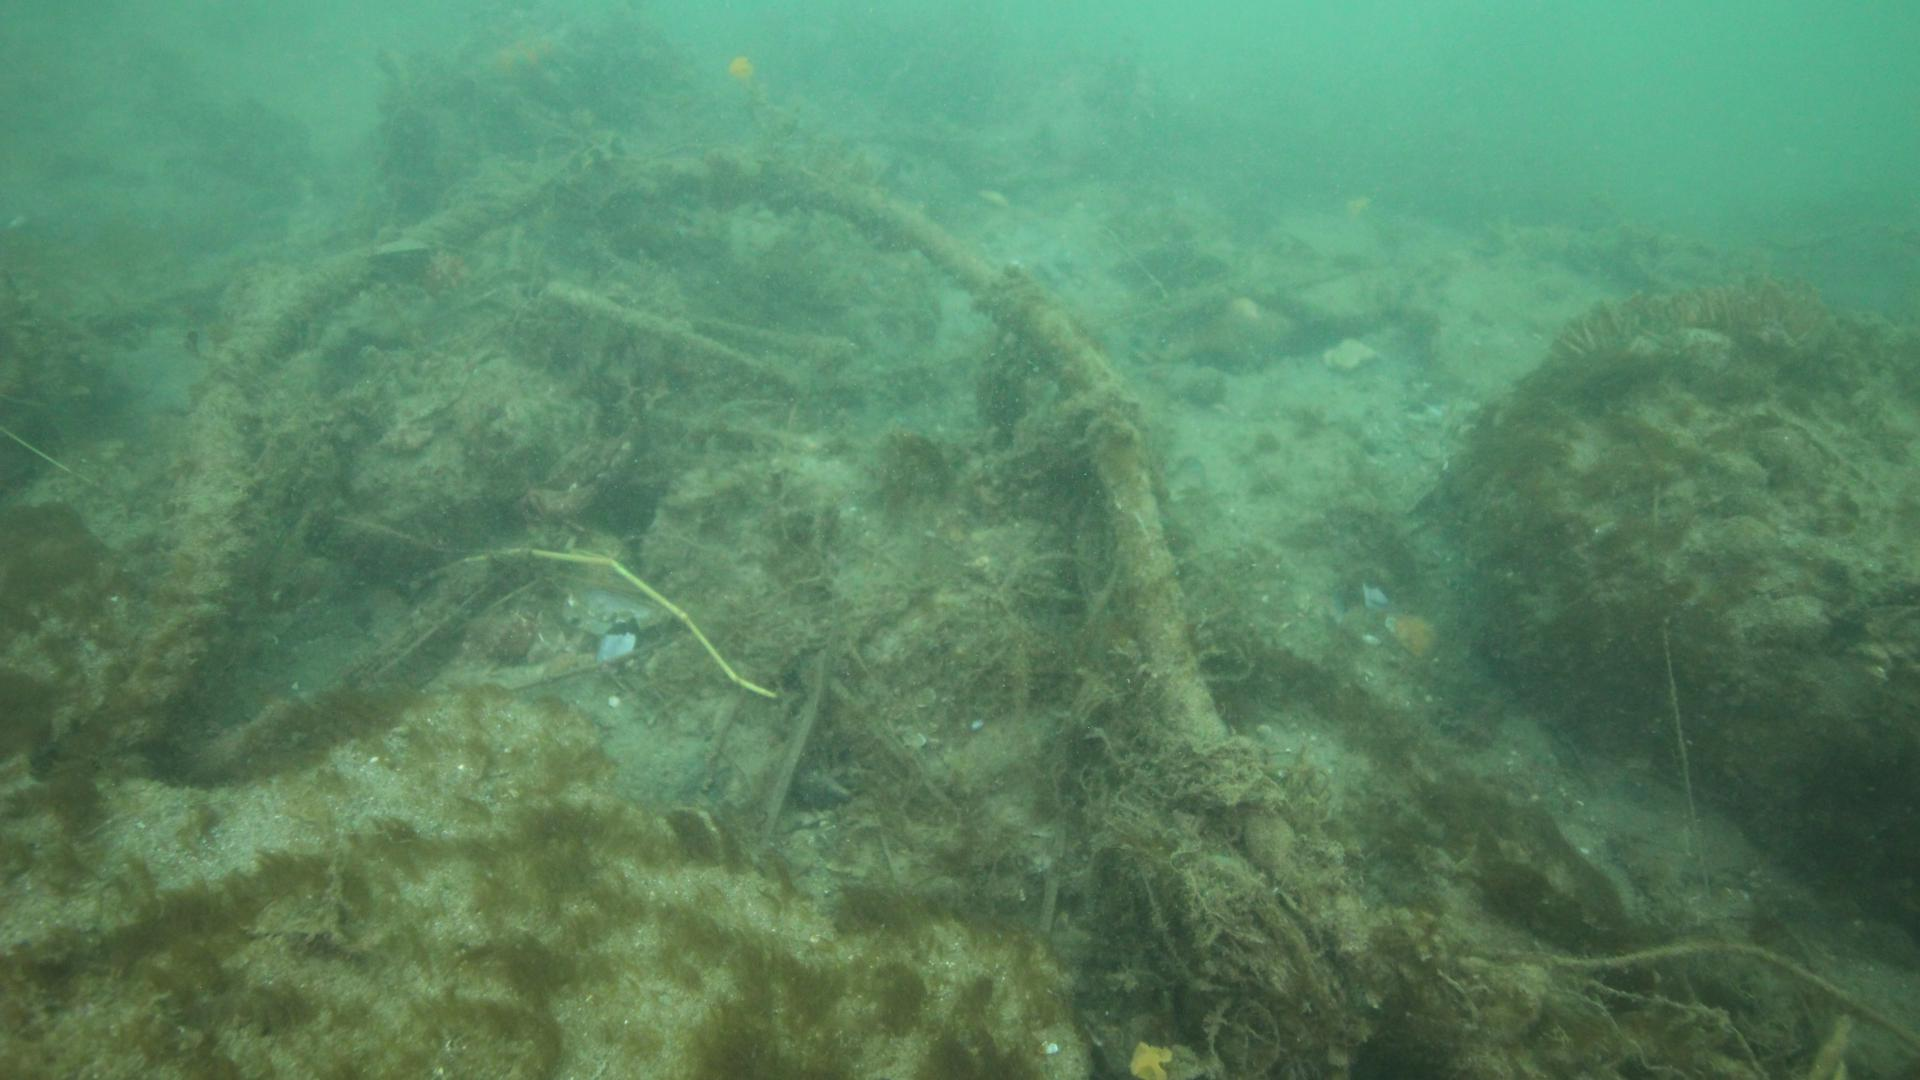bundle of ropes: (92, 149, 1298, 876)
